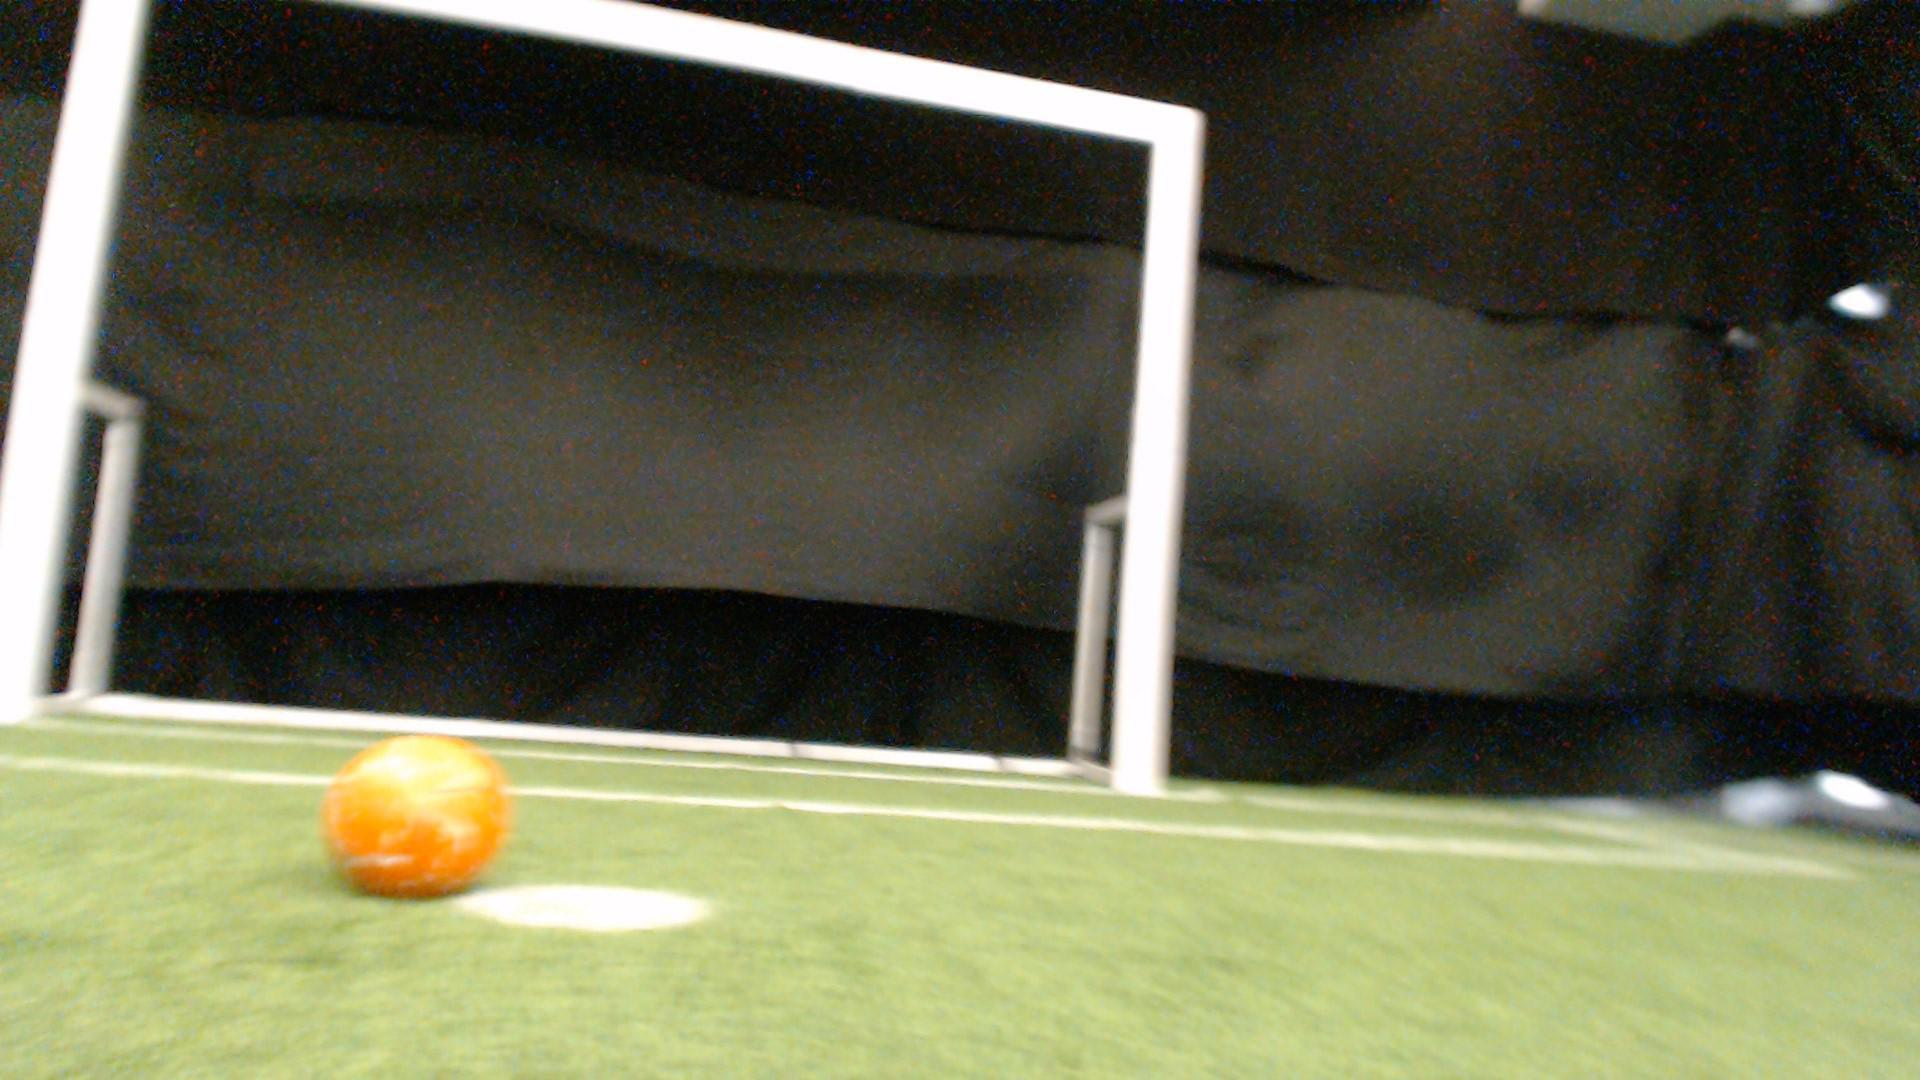bola: (309, 725, 516, 914)
